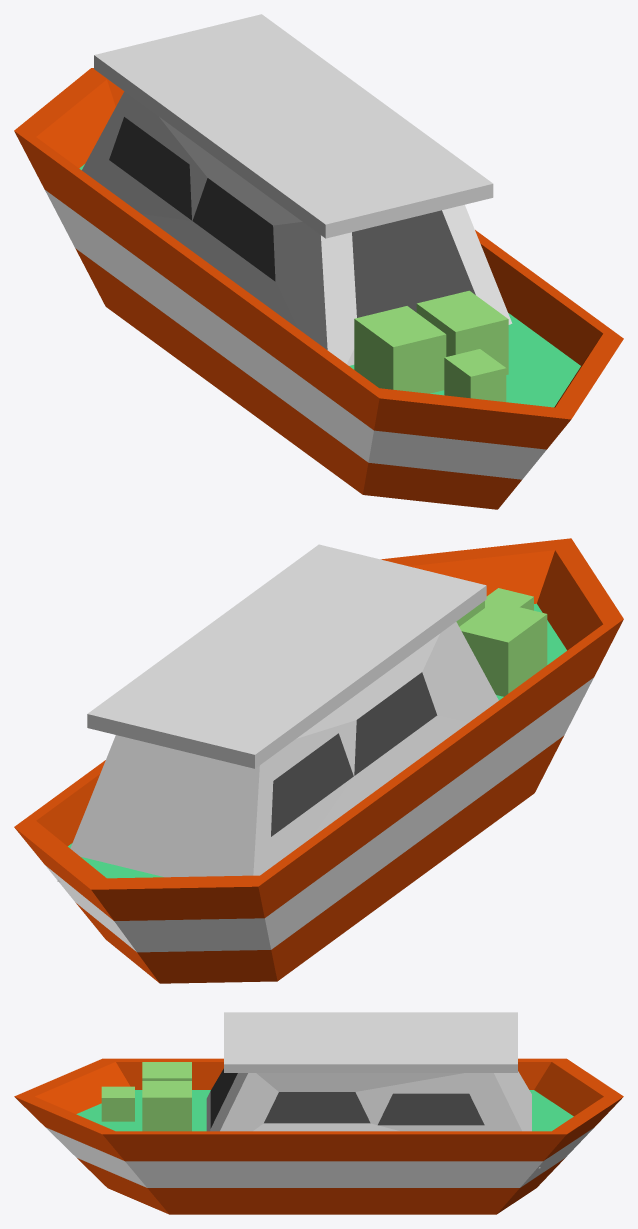
Rendered from boat.gltf.
3 views of the same model, one above another, from view 1: azimuth 30°, elevation 25°; view 2: azimuth 150°, elevation 25°; view 3: azimuth 270°, elevation 25° (orthographic). The views are drawn at different scales.
Visible parts, largest first — view 1: Cube; view 2: Cube; view 3: Cube.
Part boxes in pixels (x1,y1,x2,y2): Cube: (14, 14, 623, 509); Cube: (14, 538, 623, 983); Cube: (14, 1012, 623, 1214).
Bounding box in the file's own units: 6.21 × 5.77 × 21.13.
